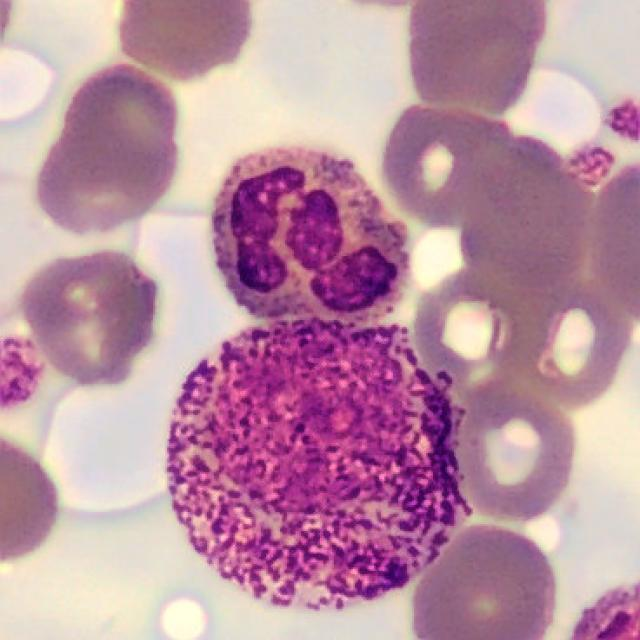Neutrofilo segmentado: (211, 144, 412, 320)
